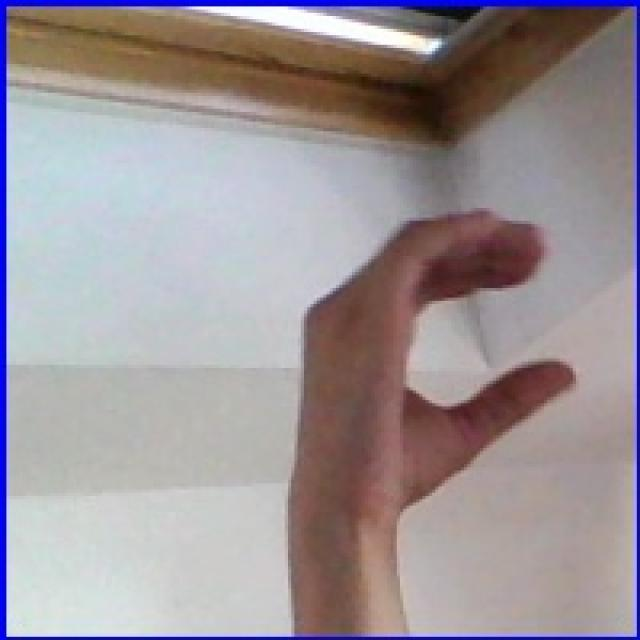Letra C: (222, 203, 604, 565)
